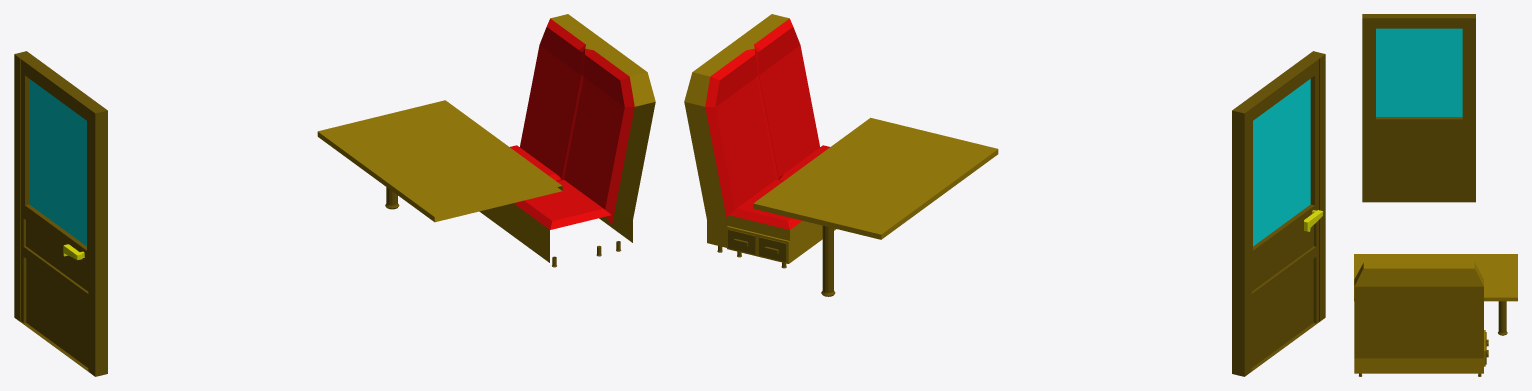
Rendered from propsg.fbx.
3 renders of one model, left to right at view 1: azimuth 30°, elevation 25°; view 2: azimuth 150°, elevation 25°; view 3: azimuth 270°, elevation 25°, orthographic. The views are drawn at different scales.
Parts seen in each view (by area): view 1: porta, banco1, mesa; view 2: porta, banco1, mesa; view 3: porta, banco1, mesa.
Boxes of the visible parts, <box> form: porta: <box>14,51,107,376</box>; banco1: <box>479,14,655,267</box>; mesa: <box>317,100,562,222</box>; porta: <box>1232,51,1325,376</box>; banco1: <box>684,14,836,268</box>; mesa: <box>753,117,998,296</box>; porta: <box>1362,14,1475,202</box>; banco1: <box>1354,261,1488,376</box>; mesa: <box>1354,254,1517,335</box>.
Size of the model in its own units: 24.86 by 11.13 by 8.97.
